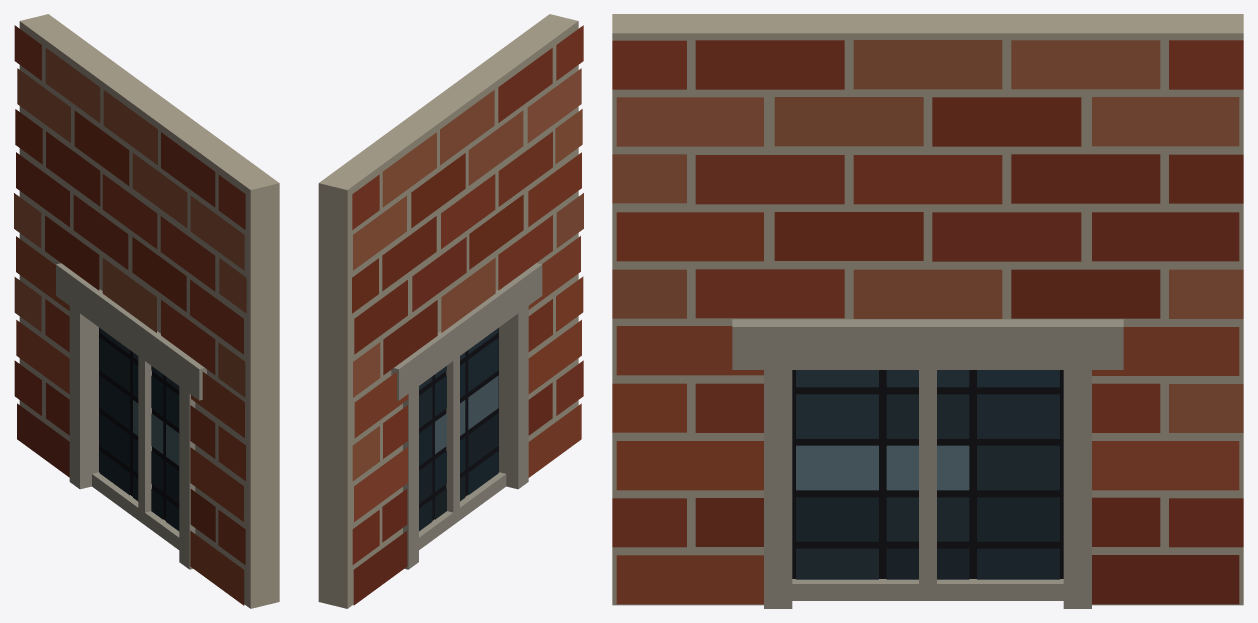
Rendered from wall-brick-window-high.glb.
3 renders of one model, left to right at view 1: azimuth 30°, elevation 25°; view 2: azimuth 150°, elevation 25°; view 3: azimuth 270°, elevation 25°, orthographic. The views are drawn at different scales.
Visible parts, largest first — view 1: wall-brick-window-high; view 2: wall-brick-window-high; view 3: wall-brick-window-high.
Part boxes in pixels (x1=…): wall-brick-window-high: x1=14, y1=14, x2=279, y2=608; wall-brick-window-high: x1=318, y1=14, x2=583, y2=608; wall-brick-window-high: x1=612, y1=14, x2=1243, y2=608.
Size of the model in its own units: 0.12 by 1 by 1.
